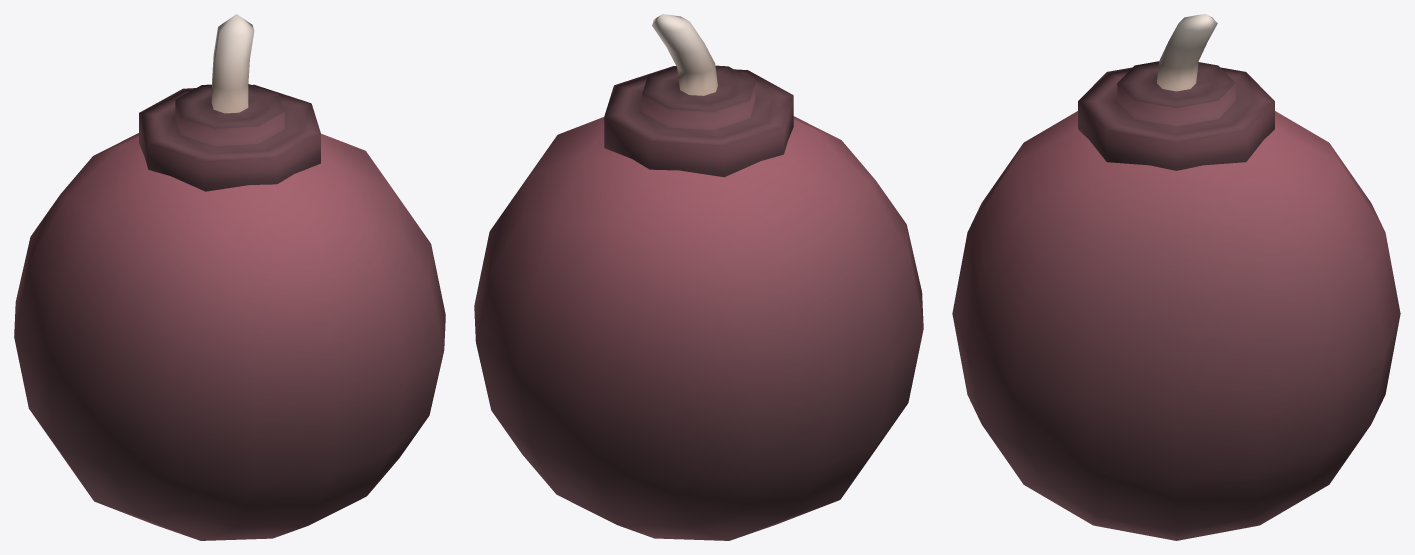
Rendered from effect_bomb.fbx.
3 renders of one model, left to right at view 1: azimuth 30°, elevation 25°; view 2: azimuth 150°, elevation 25°; view 3: azimuth 270°, elevation 25°, orthographic. The views are drawn at different scales.
Parts seen in each view (by area): view 1: effect_bomb; view 2: effect_bomb; view 3: effect_bomb.
Boxes of the visible parts, left/top/right/bottom form: effect_bomb: left=14, top=14, right=445, bottom=540; effect_bomb: left=474, top=14, right=923, bottom=540; effect_bomb: left=952, top=14, right=1400, bottom=540.
Bounding box in the file's own units: 4.55 × 5.75 × 4.55.
1 material, 1 textured.
